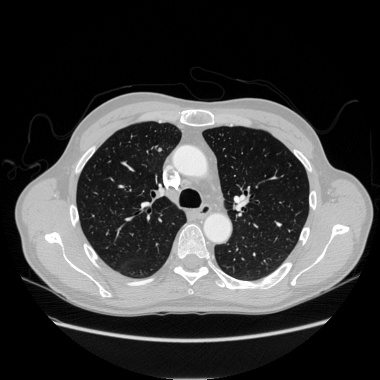PN: (157, 147, 161, 151)
